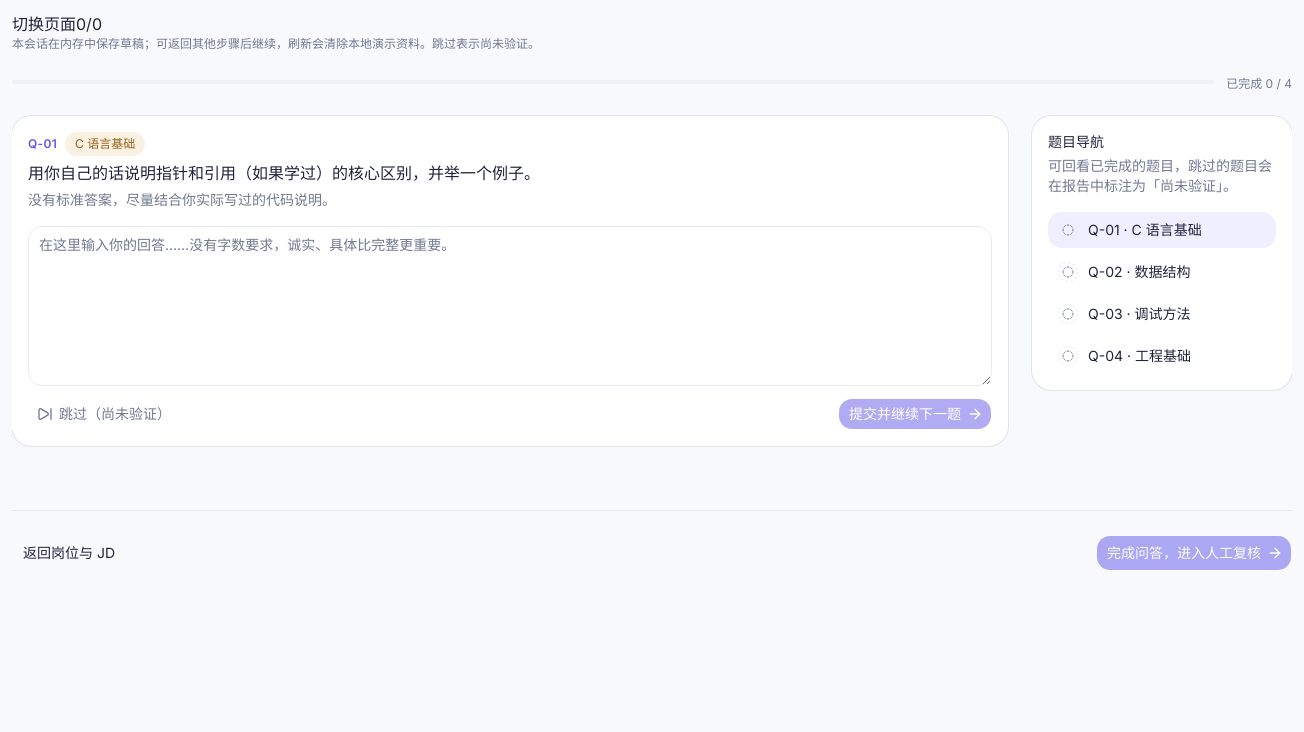
页面回归基线 › 跳过不计为已回答
Click the button "跳过（尚未验证）" at (105, 414), box [28,398,182,430]
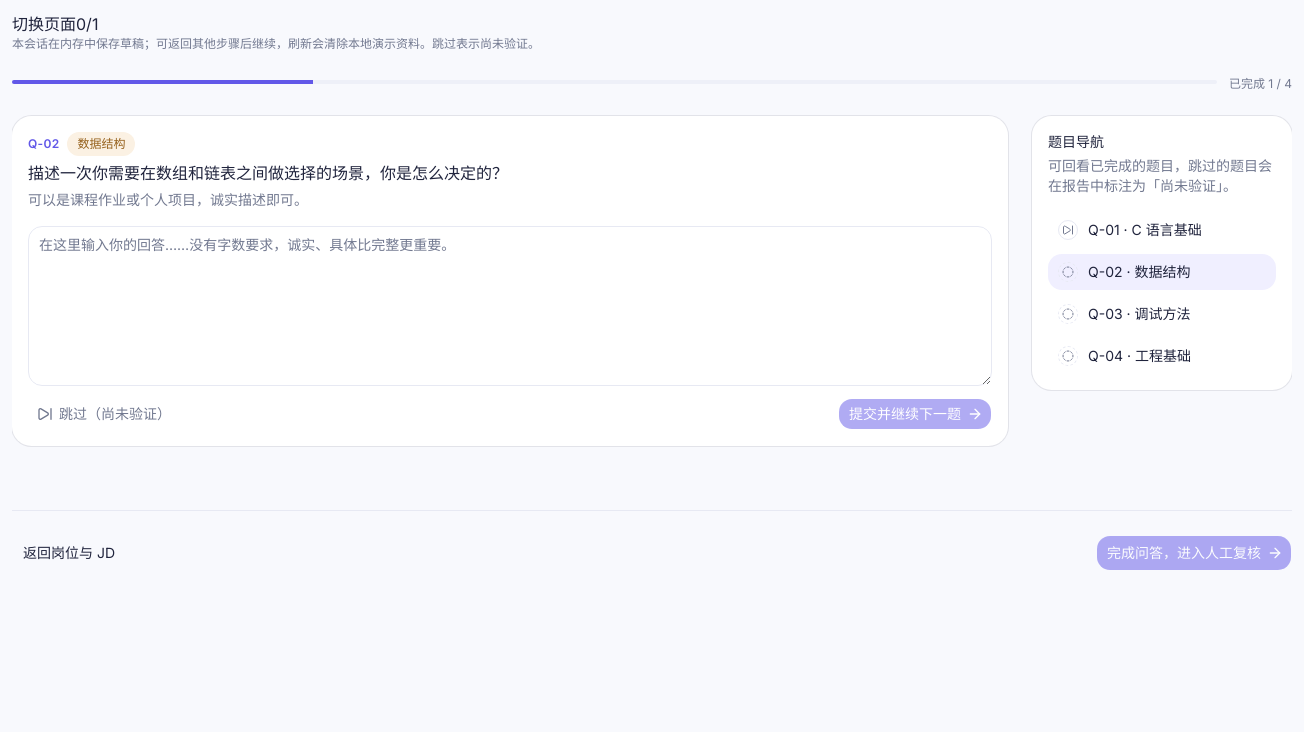
Now the text with test id "counts" reads "0/1", box [76,14,98,34]
